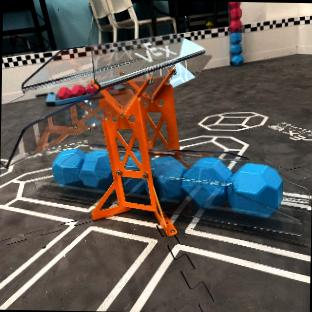Med_goal: (0, 33, 295, 235)
V5_BLUE: (227, 163, 282, 217), (52, 148, 112, 190), (181, 157, 230, 205), (150, 155, 185, 197), (122, 177, 145, 192)
